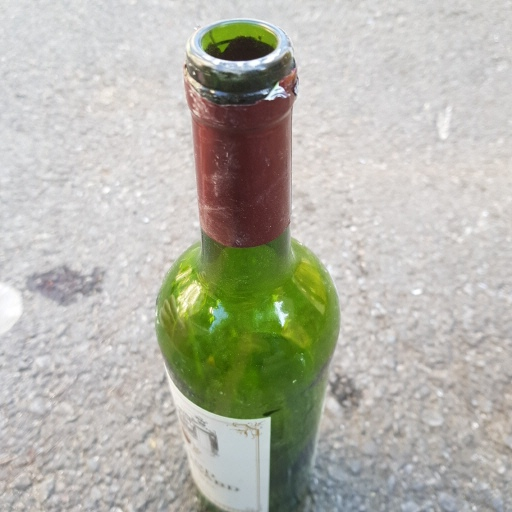Glass_2: (155, 18, 338, 512)
